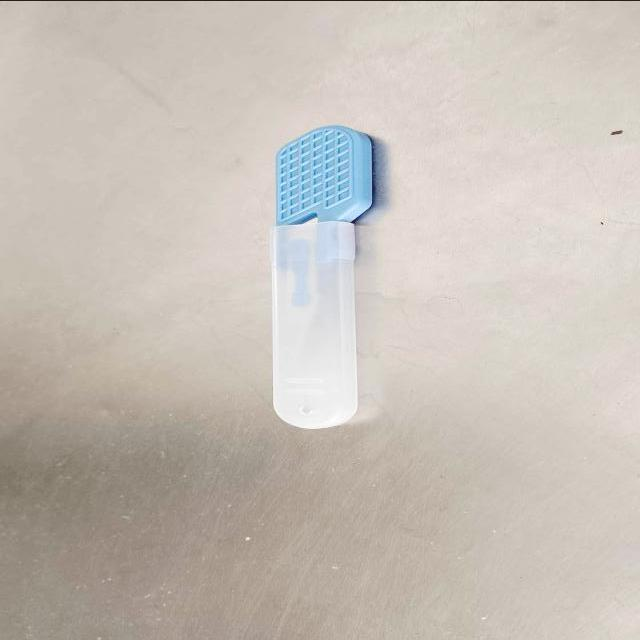General: (273, 123, 376, 226)
Sharps: (268, 123, 375, 430)
